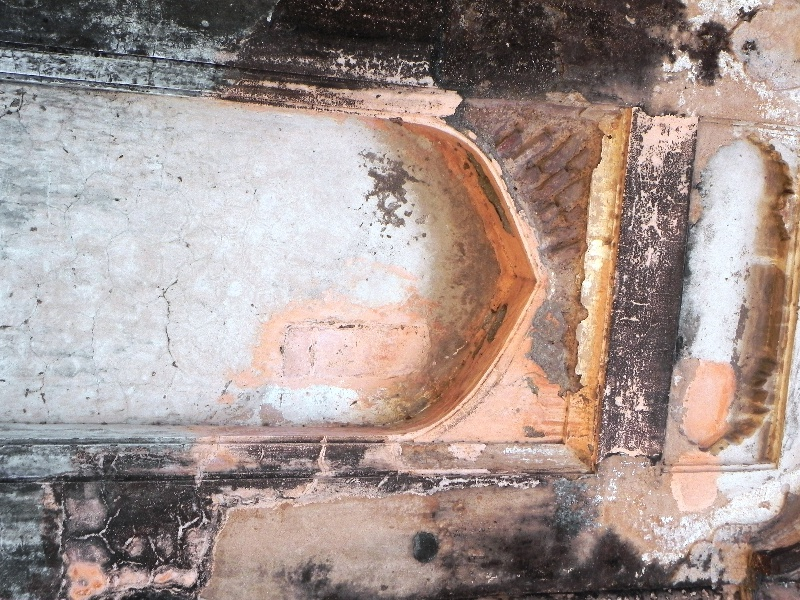Exposed Bricks: (475, 103, 590, 262)
Spalling: (529, 265, 592, 408)
